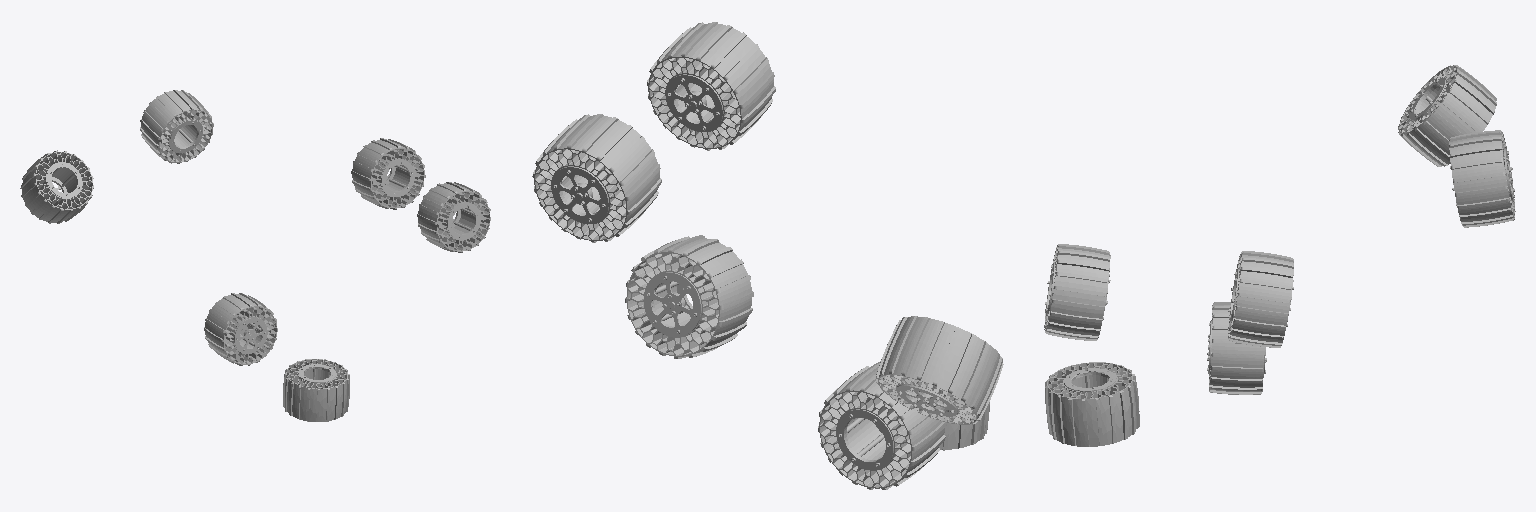
robot.urdf — MR24-DT-A00.00 - URDF:
<?xml version="1.0" encoding="utf-8"?>
<!-- This URDF was automatically created by SolidWorks to URDF Exporter! Originally created by [author] ([email redacted])
     Commit Version: 1.6.0-4-g7f85cfe  Build Version: 1.6.7995.38578
     For more information, please see http://wiki.ros.org/sw_urdf_exporter -->
<robot
  name="MR24-DT-A00.00 - URDF">
  <link
    name="base_link">
    <inertial>
      <origin
        xyz="-0.00088592 -0.028119 0.09758"
        rpy="0 0 0" />
      <mass
        value="9.3835" />
      <inertia
        ixx="0.01309"
        ixy="1.8428E-06"
        ixz="-1.0125E-09"
        iyy="0.020768"
        iyz="0.001108"
        izz="0.029266" />
    </inertial>
    <visual>
      <origin
        xyz="0 0 0"
        rpy="0 0 0" />
      <geometry>
        <mesh
          filename="package://MR24-DT-A00.00 - URDF/meshes/base_link.STL" />
      </geometry>
      <material
        name="">
        <color
          rgba="0.75294 0.75294 0.75294 1" />
      </material>
    </visual>
    <collision>
      <origin
        xyz="0 0 0"
        rpy="0 0 0" />
      <geometry>
        <mesh
          filename="package://MR24-DT-A00.00 - URDF/meshes/base_link.STL" />
      </geometry>
    </collision>
  </link>
  <link
    name="Front_Left Wheel">
    <inertial>
      <origin
        xyz="-1.0355E-06 0.0028234 5.9786E-07"
        rpy="0 0 0" />
      <mass
        value="1.4538" />
      <inertia
        ixx="0.0051569"
        ixy="-4.55E-09"
        ixz="-5.2852E-09"
        iyy="0.0075013"
        iyz="2.6248E-09"
        izz="0.0051569" />
    </inertial>
    <visual>
      <origin
        xyz="0 0 0"
        rpy="0 0 0" />
      <geometry>
        <mesh
          filename="package://MR24-DT-A00.00 - URDF/meshes/Front_Left Wheel.STL" />
      </geometry>
      <material
        name="">
        <color
          rgba="0.75294 0.75294 0.75294 1" />
      </material>
    </visual>
    <collision>
      <origin
        xyz="0 0 0"
        rpy="0 0 0" />
      <geometry>
        <mesh
          filename="package://MR24-DT-A00.00 - URDF/meshes/Front_Left Wheel.STL" />
      </geometry>
    </collision>
  </link>
  <joint
    name="Front_Left Wheel Joint"
    type="continuous">
    <origin
      xyz="-0.43855 0.40398 0.0080468"
      rpy="3.1416 -0.74573 -1.5708" />
    <parent
      link="base_link" />
    <child
      link="Front_Left Wheel" />
    <axis
      xyz="0 -1 0" />
  </joint>
  <link
    name="Front_right Wheel">
    <inertial>
      <origin
        xyz="-1.0355E-06 0.0028234 5.9786E-07"
        rpy="0 0 0" />
      <mass
        value="1.4538" />
      <inertia
        ixx="0.0051569"
        ixy="-4.55E-09"
        ixz="-5.2852E-09"
        iyy="0.0075013"
        iyz="2.6248E-09"
        izz="0.0051569" />
    </inertial>
    <visual>
      <origin
        xyz="0 0 0"
        rpy="0 0 0" />
      <geometry>
        <mesh
          filename="package://MR24-DT-A00.00 - URDF/meshes/Front_right Wheel.STL" />
      </geometry>
      <material
        name="">
        <color
          rgba="0.75294 0.75294 0.75294 1" />
      </material>
    </visual>
    <collision>
      <origin
        xyz="0 0 0"
        rpy="0 0 0" />
      <geometry>
        <mesh
          filename="package://MR24-DT-A00.00 - URDF/meshes/Front_right Wheel.STL" />
      </geometry>
    </collision>
  </link>
  <joint
    name="Front_Right Wheel Joint"
    type="continuous">
    <origin
      xyz="0.43855 0.40398 0.0080468"
      rpy="0 -0.043518 -1.5708" />
    <parent
      link="base_link" />
    <child
      link="Front_right Wheel" />
    <axis
      xyz="0 -1 0" />
  </joint>
  <link
    name="Center_Left Wheel">
    <inertial>
      <origin
        xyz="-1.0355E-06 0.0028234 5.9786E-07"
        rpy="0 0 0" />
      <mass
        value="1.4538" />
      <inertia
        ixx="0.0051569"
        ixy="-4.55E-09"
        ixz="-5.2852E-09"
        iyy="0.0075013"
        iyz="2.6248E-09"
        izz="0.0051569" />
    </inertial>
    <visual>
      <origin
        xyz="0 0 0"
        rpy="0 0 0" />
      <geometry>
        <mesh
          filename="package://MR24-DT-A00.00 - URDF/meshes/Center_Left Wheel.STL" />
      </geometry>
      <material
        name="">
        <color
          rgba="0.75294 0.75294 0.75294 1" />
      </material>
    </visual>
    <collision>
      <origin
        xyz="0 0 0"
        rpy="0 0 0" />
      <geometry>
        <mesh
          filename="package://MR24-DT-A00.00 - URDF/meshes/Center_Left Wheel.STL" />
      </geometry>
    </collision>
  </link>
  <joint
    name="Center_Left Wheel Joint"
    type="continuous">
    <origin
      xyz="-0.48455 0 0"
      rpy="-3.1416 0.16137 -1.5708" />
    <parent
      link="base_link" />
    <child
      link="Center_Left Wheel" />
    <axis
      xyz="0 -1 0" />
  </joint>
  <link
    name="Center_Right Wheel">
    <inertial>
      <origin
        xyz="-1.0355E-06 0.0028234 5.9786E-07"
        rpy="0 0 0" />
      <mass
        value="1.4538" />
      <inertia
        ixx="0.0051569"
        ixy="-4.55E-09"
        ixz="-5.2852E-09"
        iyy="0.0075013"
        iyz="2.6248E-09"
        izz="0.0051569" />
    </inertial>
    <visual>
      <origin
        xyz="0 0 0"
        rpy="0 0 0" />
      <geometry>
        <mesh
          filename="package://MR24-DT-A00.00 - URDF/meshes/Center_Right Wheel.STL" />
      </geometry>
      <material
        name="">
        <color
          rgba="0.75294 0.75294 0.75294 1" />
      </material>
    </visual>
    <collision>
      <origin
        xyz="0 0 0"
        rpy="0 0 0" />
      <geometry>
        <mesh
          filename="package://MR24-DT-A00.00 - URDF/meshes/Center_Right Wheel.STL" />
      </geometry>
    </collision>
  </link>
  <joint
    name="Center_Right Wheel Joint"
    type="continuous">
    <origin
      xyz="0.48455 0 0"
      rpy="3.1416 0.15745 1.5708" />
    <parent
      link="base_link" />
    <child
      link="Center_Right Wheel" />
    <axis
      xyz="0 -1 0" />
  </joint>
  <link
    name="Rear_Left Wheel">
    <inertial>
      <origin
        xyz="-1.0355E-06 0.0028234 5.9786E-07"
        rpy="0 0 0" />
      <mass
        value="1.4538" />
      <inertia
        ixx="0.0051569"
        ixy="-4.55E-09"
        ixz="-5.2852E-09"
        iyy="0.0075013"
        iyz="2.6248E-09"
        izz="0.0051569" />
    </inertial>
    <visual>
      <origin
        xyz="0 0 0"
        rpy="0 0 0" />
      <geometry>
        <mesh
          filename="package://MR24-DT-A00.00 - URDF/meshes/Rear_Left Wheel.STL" />
      </geometry>
      <material
        name="">
        <color
          rgba="0.75294 0.75294 0.75294 1" />
      </material>
    </visual>
    <collision>
      <origin
        xyz="0 0 0"
        rpy="0 0 0" />
      <geometry>
        <mesh
          filename="package://MR24-DT-A00.00 - URDF/meshes/Rear_Left Wheel.STL" />
      </geometry>
    </collision>
  </link>
  <joint
    name="Rear_Left Wheel Joint"
    type="continuous">
    <origin
      xyz="-0.48455 -0.39807 0.016315"
      rpy="-3.1416 -1.4933 -1.5708" />
    <parent
      link="base_link" />
    <child
      link="Rear_Left Wheel" />
    <axis
      xyz="0 -1 0" />
  </joint>
  <link
    name="Rear_Right Wheel">
    <inertial>
      <origin
        xyz="-1.0355E-06 0.0028234 5.9786E-07"
        rpy="0 0 0" />
      <mass
        value="1.4538" />
      <inertia
        ixx="0.0051569"
        ixy="-4.55E-09"
        ixz="-5.2852E-09"
        iyy="0.0075013"
        iyz="2.6248E-09"
        izz="0.0051569" />
    </inertial>
    <visual>
      <origin
        xyz="0 0 0"
        rpy="0 0 0" />
      <geometry>
        <mesh
          filename="package://MR24-DT-A00.00 - URDF/meshes/Rear_Right Wheel.STL" />
      </geometry>
      <material
        name="">
        <color
          rgba="0.75294 0.75294 0.75294 1" />
      </material>
    </visual>
    <collision>
      <origin
        xyz="0 0 0"
        rpy="0 0 0" />
      <geometry>
        <mesh
          filename="package://MR24-DT-A00.00 - URDF/meshes/Rear_Right Wheel.STL" />
      </geometry>
    </collision>
  </link>
  <joint
    name="Rear_Right Wheel Joint"
    type="continuous">
    <origin
      xyz="0.48455 -0.39807 0.016315"
      rpy="3.1416 0.15881 1.5708" />
    <parent
      link="base_link" />
    <child
      link="Rear_Right Wheel" />
    <axis
      xyz="0 -1 0" />
  </joint>
</robot>

--- Facts derived from the render (not from the file) ---
The picture shows the robot from 3 angles, left to right: view 1: azimuth 30°, elevation 25°; view 2: azimuth 150°, elevation 25°; view 3: azimuth 270°, elevation 25°; orthographic projection.
Robot: MR24-DT-A00.00 - URDF — 7 links, 6 joints (6 continuous); root link base_link; default pose: all joints at 0.
Visible links, largest first — view 1: Front_right Wheel, Center_Right Wheel, Center_Left Wheel, Rear_Right Wheel, Front_Left Wheel, Rear_Left Wheel; view 2: Center_Left Wheel, Center_Right Wheel, Rear_Right Wheel, Front_Left Wheel, Front_right Wheel, Rear_Left Wheel; view 3: Rear_Left Wheel, Front_Left Wheel, Center_Right Wheel, Center_Left Wheel, Rear_Right Wheel, Front_right Wheel.
Boxes of the visible links, bbox=[...] form: Front_right Wheel: bbox=[204, 293, 277, 365]; Center_Right Wheel: bbox=[351, 138, 425, 209]; Center_Left Wheel: bbox=[140, 90, 213, 163]; Rear_Right Wheel: bbox=[417, 182, 490, 252]; Front_Left Wheel: bbox=[20, 150, 93, 223]; Rear_Left Wheel: bbox=[283, 359, 349, 421]; Center_Left Wheel: bbox=[625, 235, 753, 358]; Center_Right Wheel: bbox=[532, 114, 661, 242]; Rear_Right Wheel: bbox=[647, 22, 775, 150]; Front_Left Wheel: bbox=[876, 316, 1003, 424]; Front_right Wheel: bbox=[818, 362, 946, 489]; Rear_Left Wheel: bbox=[880, 361, 989, 450]; Rear_Left Wheel: bbox=[1045, 362, 1139, 446]; Front_Left Wheel: bbox=[1398, 65, 1496, 166]; Center_Right Wheel: bbox=[1228, 251, 1293, 347]; Center_Left Wheel: bbox=[1449, 130, 1515, 227]; Rear_Right Wheel: bbox=[1044, 244, 1110, 340]; Front_right Wheel: bbox=[1207, 302, 1266, 394].
Bounding box of the posed robot: 1.13 × 1.02 × 0.7134 m (x, y, z).
Meshes: 7 distinct files referenced, 6 mesh visuals loaded (6 binary STL); not drawn: 1 (reference not matched to a file when rendering).
